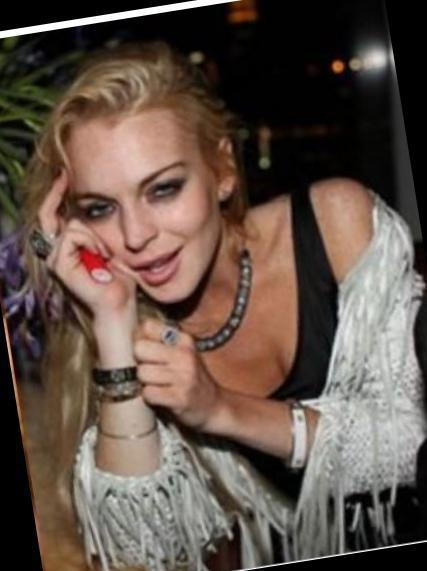Drunk: (64, 129, 216, 297)
